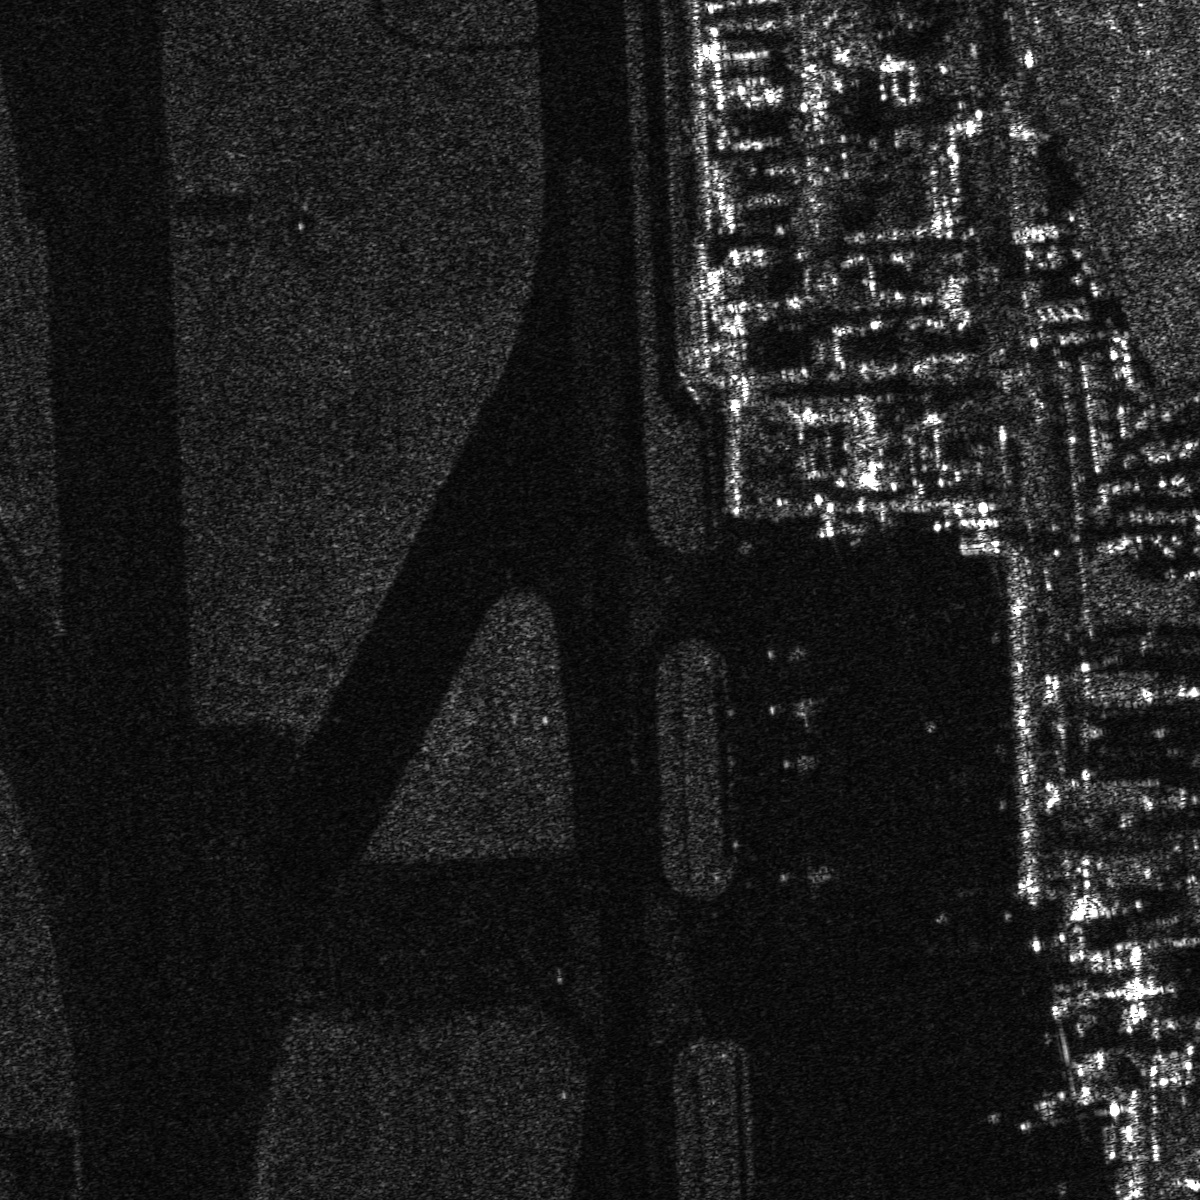ARJ21: (754, 688, 835, 738), (771, 742, 827, 784)
other: (774, 851, 843, 903), (762, 637, 818, 667)
